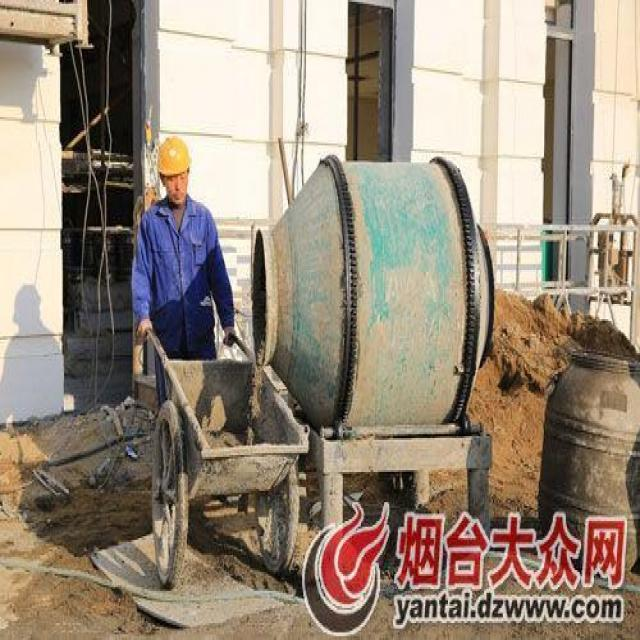hat: (154, 130, 196, 206)
